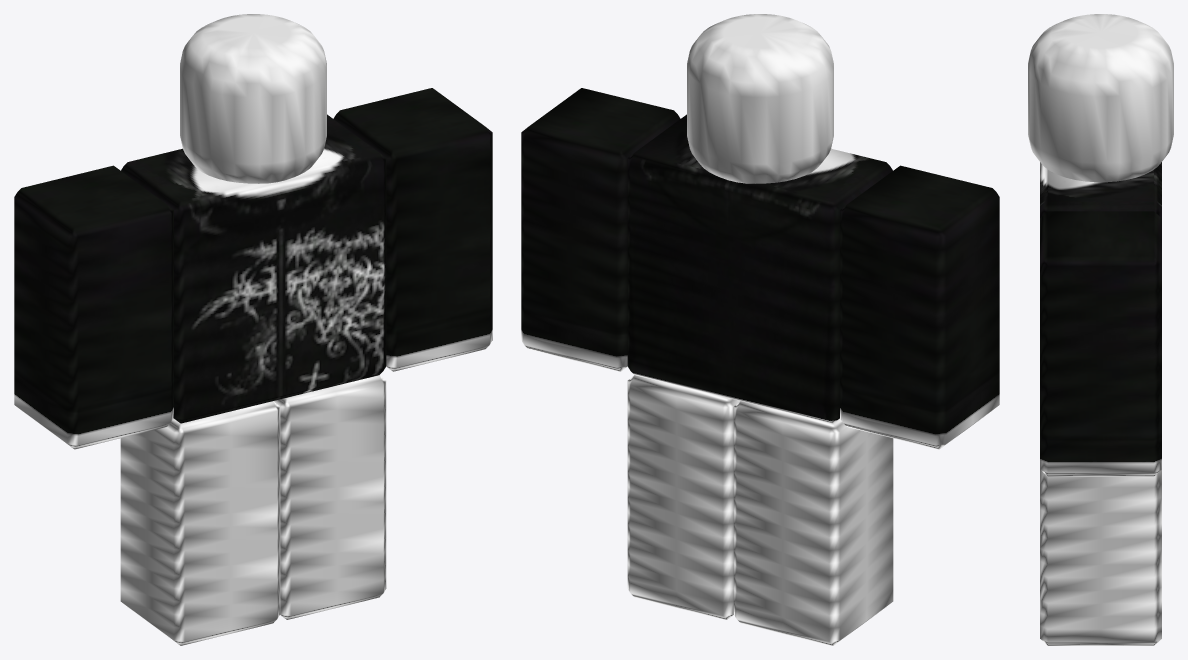
The picture shows the model from 3 angles, left to right: view 1: azimuth 30°, elevation 25°; view 2: azimuth 150°, elevation 25°; view 3: azimuth 270°, elevation 25°; orthographic projection.
Visible parts, largest first — view 1: Torso, Right Arm, Right Leg, Left Arm, Left Leg, Head; view 2: Torso, Right Arm, Right Leg, Left Arm, Left Leg, Head; view 3: Left Arm, Head, Left Leg, Torso.
Boxes of the visible parts, bbox=[...] form: Torso: bbox=[121, 114, 386, 423]; Right Arm: bbox=[14, 165, 173, 449]; Right Leg: bbox=[120, 401, 280, 645]; Left Arm: bbox=[333, 88, 492, 371]; Left Leg: bbox=[273, 375, 386, 619]; Head: bbox=[180, 14, 326, 183]; Torso: bbox=[627, 114, 892, 423]; Right Arm: bbox=[840, 165, 999, 449]; Right Leg: bbox=[733, 401, 893, 645]; Left Arm: bbox=[521, 88, 680, 371]; Left Leg: bbox=[627, 375, 740, 619]; Head: bbox=[687, 14, 833, 183]; Left Arm: bbox=[1040, 211, 1161, 476]; Head: bbox=[1028, 14, 1173, 182]; Left Leg: bbox=[1040, 470, 1161, 645]; Torso: bbox=[1040, 162, 1161, 217].
Size of the model in its own units: 4 by 5.12 by 1.2.
Materials: 1 (1 with a texture image).
